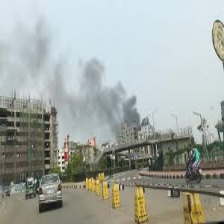smoke: (18, 46, 139, 128)
